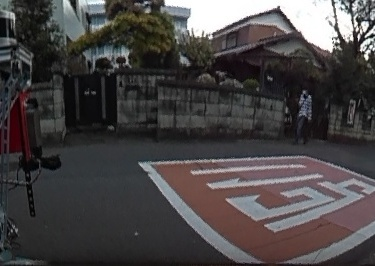person: (291, 87, 314, 144)
